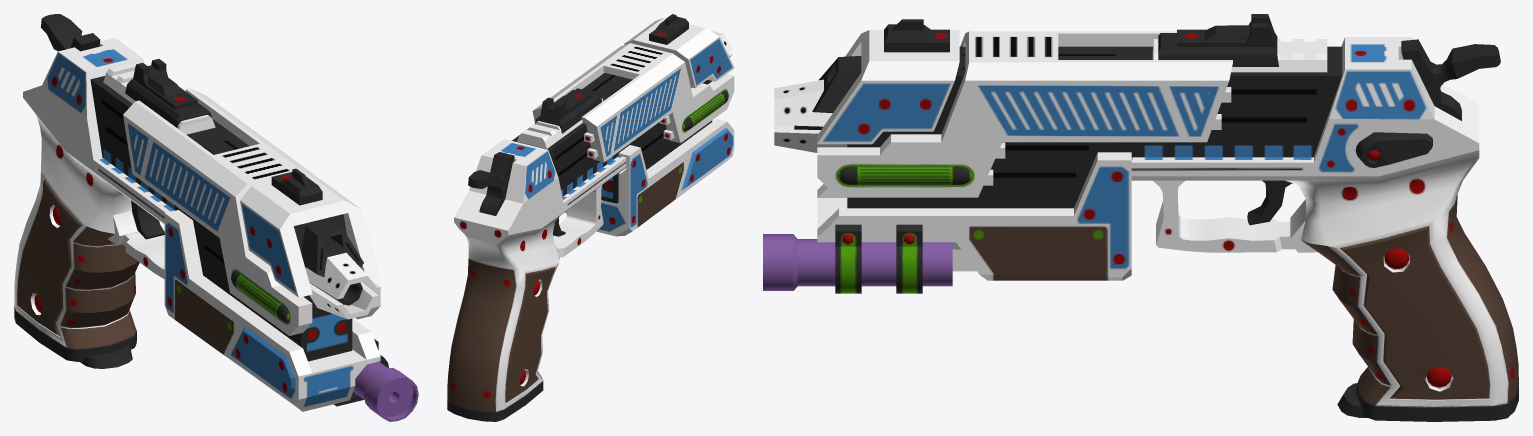
File: Sci-fi pistol.fbx
The picture shows the model from 3 angles, left to right: view 1: azimuth 30°, elevation 25°; view 2: azimuth 150°, elevation 25°; view 3: azimuth 270°, elevation 25°; orthographic projection. The views are drawn at different scales.
Visible parts, largest first — view 1: body, zatvor, kurok, trigger; view 2: body, zatvor, kurok; view 3: body, zatvor, kurok, trigger.
Part boxes in pixels (x1=…): body: x1=14, y1=37, x2=418, y2=421; zatvor: x1=123, y1=88, x2=380, y2=335; kurok: x1=40, y1=14, x2=100, y2=51; trigger: x1=131, y1=200, x2=164, y2=239; body: x1=447, y1=14, x2=734, y2=421; zatvor: x1=532, y1=43, x2=734, y2=162; kurok: x1=468, y1=152, x2=514, y2=215; body: x1=763, y1=14, x2=1518, y2=421; zatvor: x1=817, y1=31, x2=1232, y2=197; kurok: x1=1401, y1=39, x2=1500, y2=120; trigger: x1=1247, y1=180, x2=1292, y2=225.
Size of the model in its own units: 0.0218 by 0.0668 by 0.1174.
